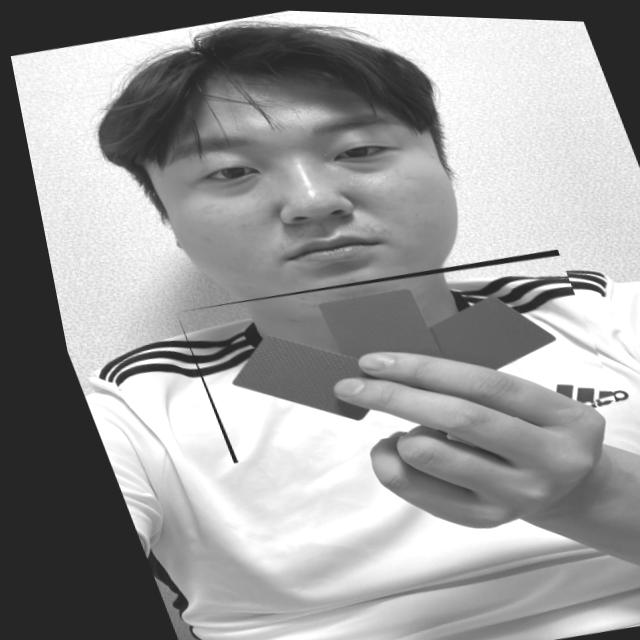hwatoo: (152, 234, 613, 473)
